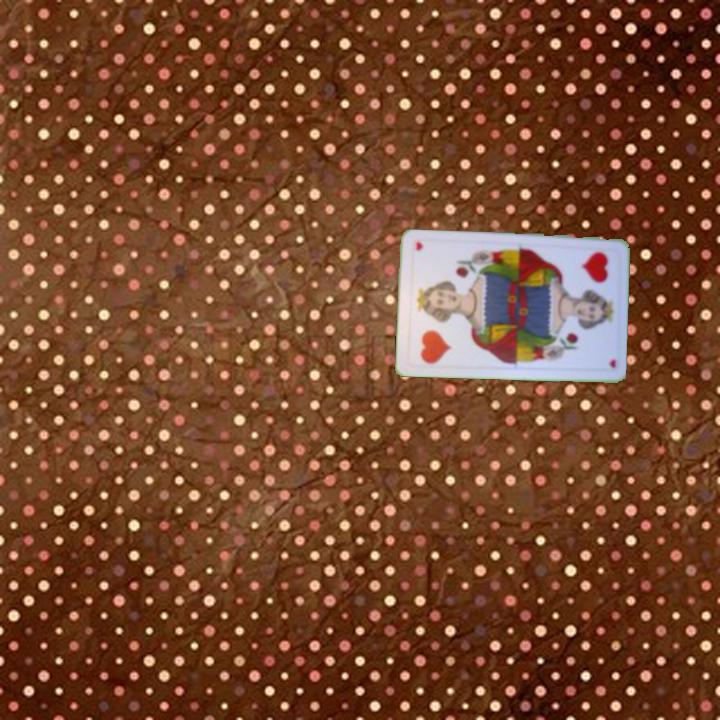h_q.png: (560, 243, 620, 312), (405, 300, 465, 368)
